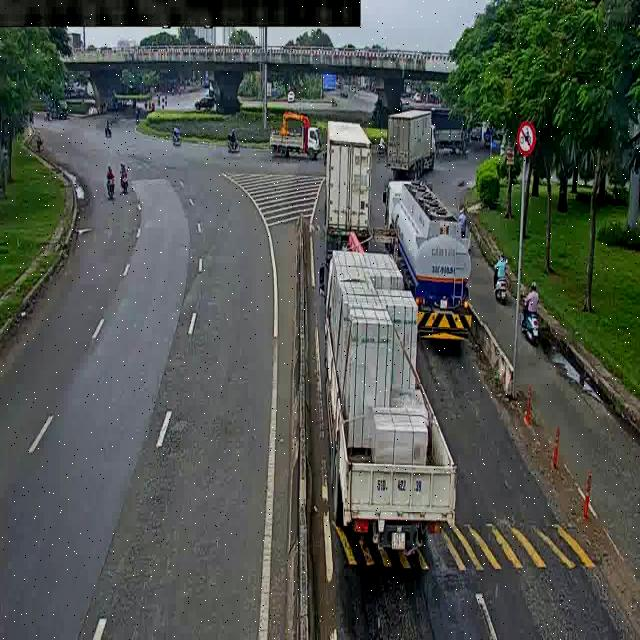car: (190, 93, 219, 120)
motorbike: (517, 282, 548, 334), (493, 250, 517, 302), (101, 162, 127, 206), (221, 126, 245, 152), (105, 117, 122, 153), (117, 166, 134, 198), (170, 125, 189, 150)
truck: (315, 218, 463, 556), (378, 178, 473, 354), (313, 113, 385, 250), (382, 104, 445, 178), (263, 116, 321, 163), (429, 99, 473, 153)
